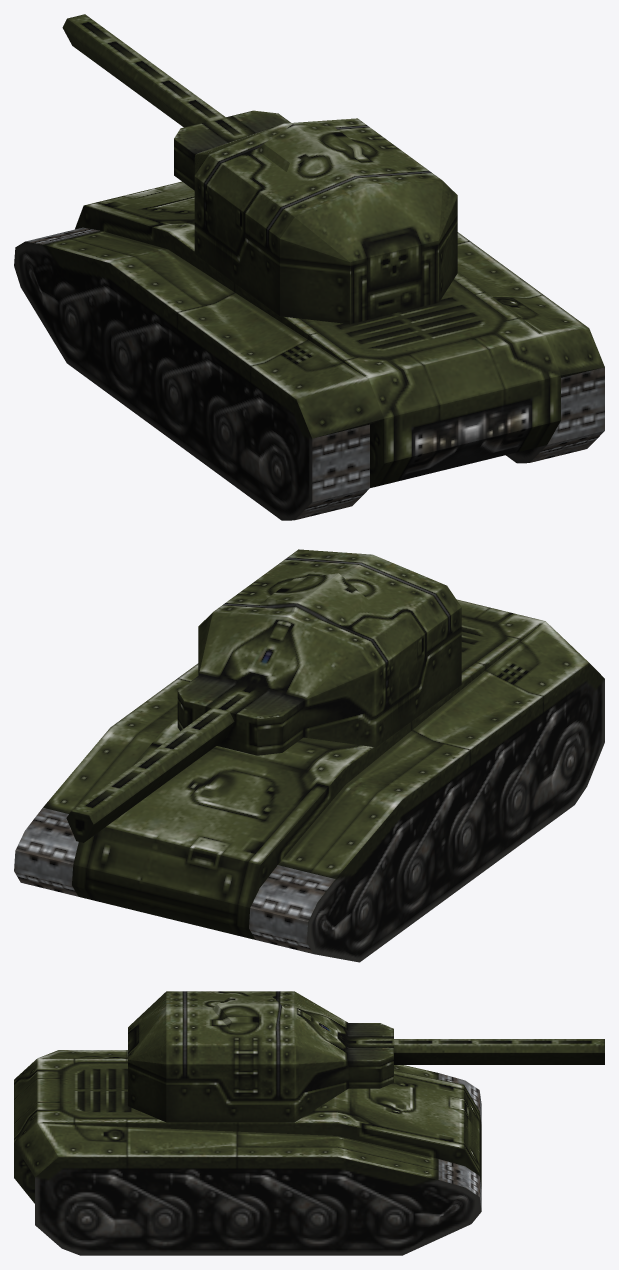
Rendered from LC_RailgunHornet.glb.
3 views of the same model, one above another, from view 1: azimuth 30°, elevation 25°; view 2: azimuth 150°, elevation 25°; view 3: azimuth 270°, elevation 25° (orthographic). The views are drawn at different scales.
Parts seen in each view (by area): view 1: hull, turret; view 2: hull, turret; view 3: hull, turret.
Part boxes in pixels (x1,y1,x2,y2): hull: (14, 181, 604, 520); turret: (62, 14, 457, 324); hull: (14, 599, 604, 962); turret: (66, 549, 461, 842); hull: (14, 1050, 481, 1255); turret: (128, 991, 604, 1122).
Size of the model in its own units: 277 by 238 by 647.
Materials: 2 (2 with a texture image).
